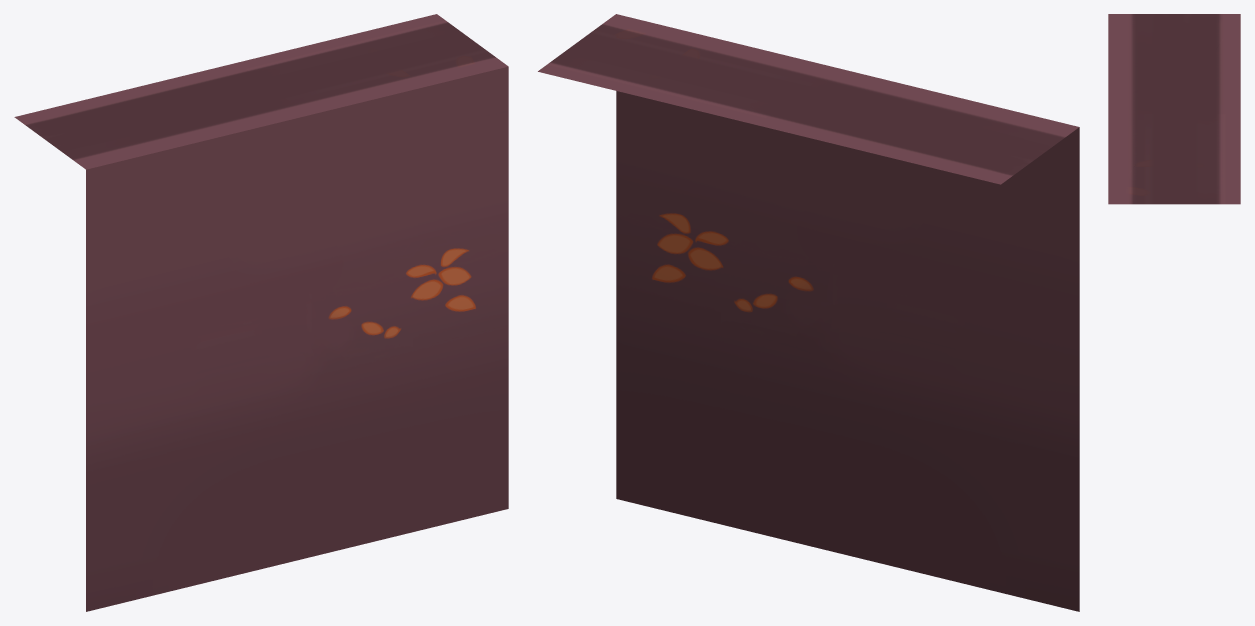
The model's file is desertWallSmall_MESH.fbx.
3 views of the same model, side by side, from view 1: azimuth 30°, elevation 25°; view 2: azimuth 150°, elevation 25°; view 3: azimuth 270°, elevation 25° (orthographic). The views are drawn at different scales.
Visible parts, largest first — view 1: Desert_WallS; view 2: Desert_WallS; view 3: Desert_WallS.
Boxes of the visible parts, bbox=[...] form: Desert_WallS: bbox=[14, 14, 508, 611]; Desert_WallS: bbox=[538, 14, 1079, 611]; Desert_WallS: bbox=[1108, 14, 1240, 204].
Bounding box in the file's own units: 100 × 100 × 29.44.
1 material, 1 textured.
